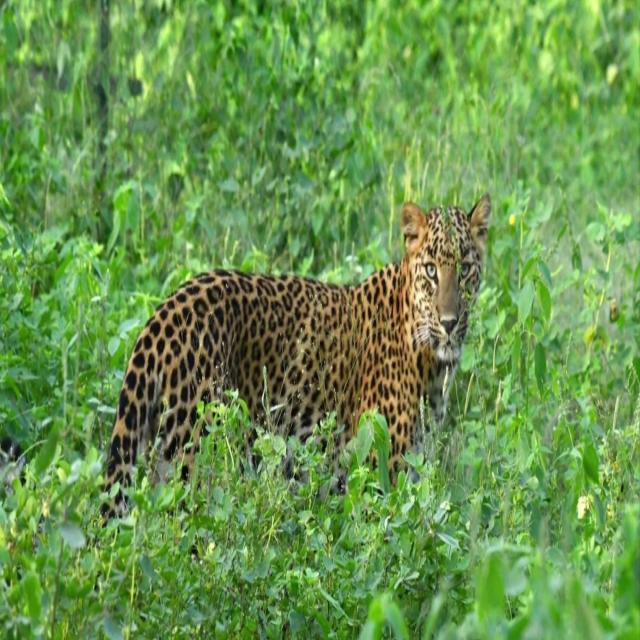Leopard: (101, 198, 492, 515)
